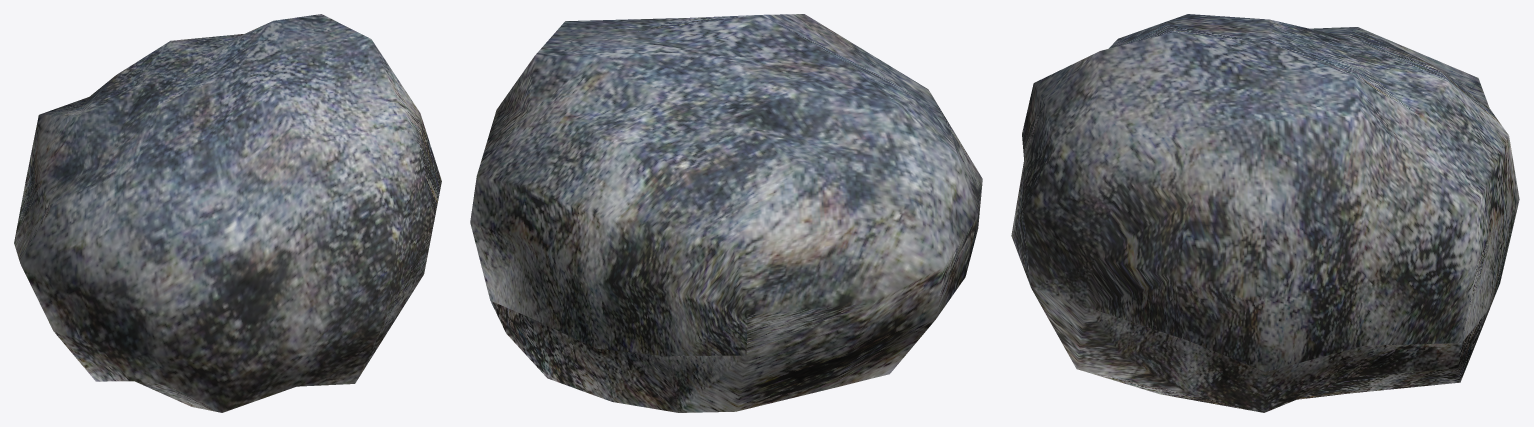
Rendered from CT_Rock_01.FBX.
3 renders of one model, left to right at view 1: azimuth 30°, elevation 25°; view 2: azimuth 150°, elevation 25°; view 3: azimuth 270°, elevation 25°, orthographic. The views are drawn at different scales.
Parts seen in each view (by area): view 1: CT_Rock00; view 2: CT_Rock00; view 3: CT_Rock00.
Part boxes in pixels (x1,y1,x2,y2): CT_Rock00: [14, 14, 441, 412]; CT_Rock00: [470, 14, 982, 412]; CT_Rock00: [1011, 14, 1519, 412].
Bounding box in the file's own units: 39.3 × 27.46 × 37.28.
